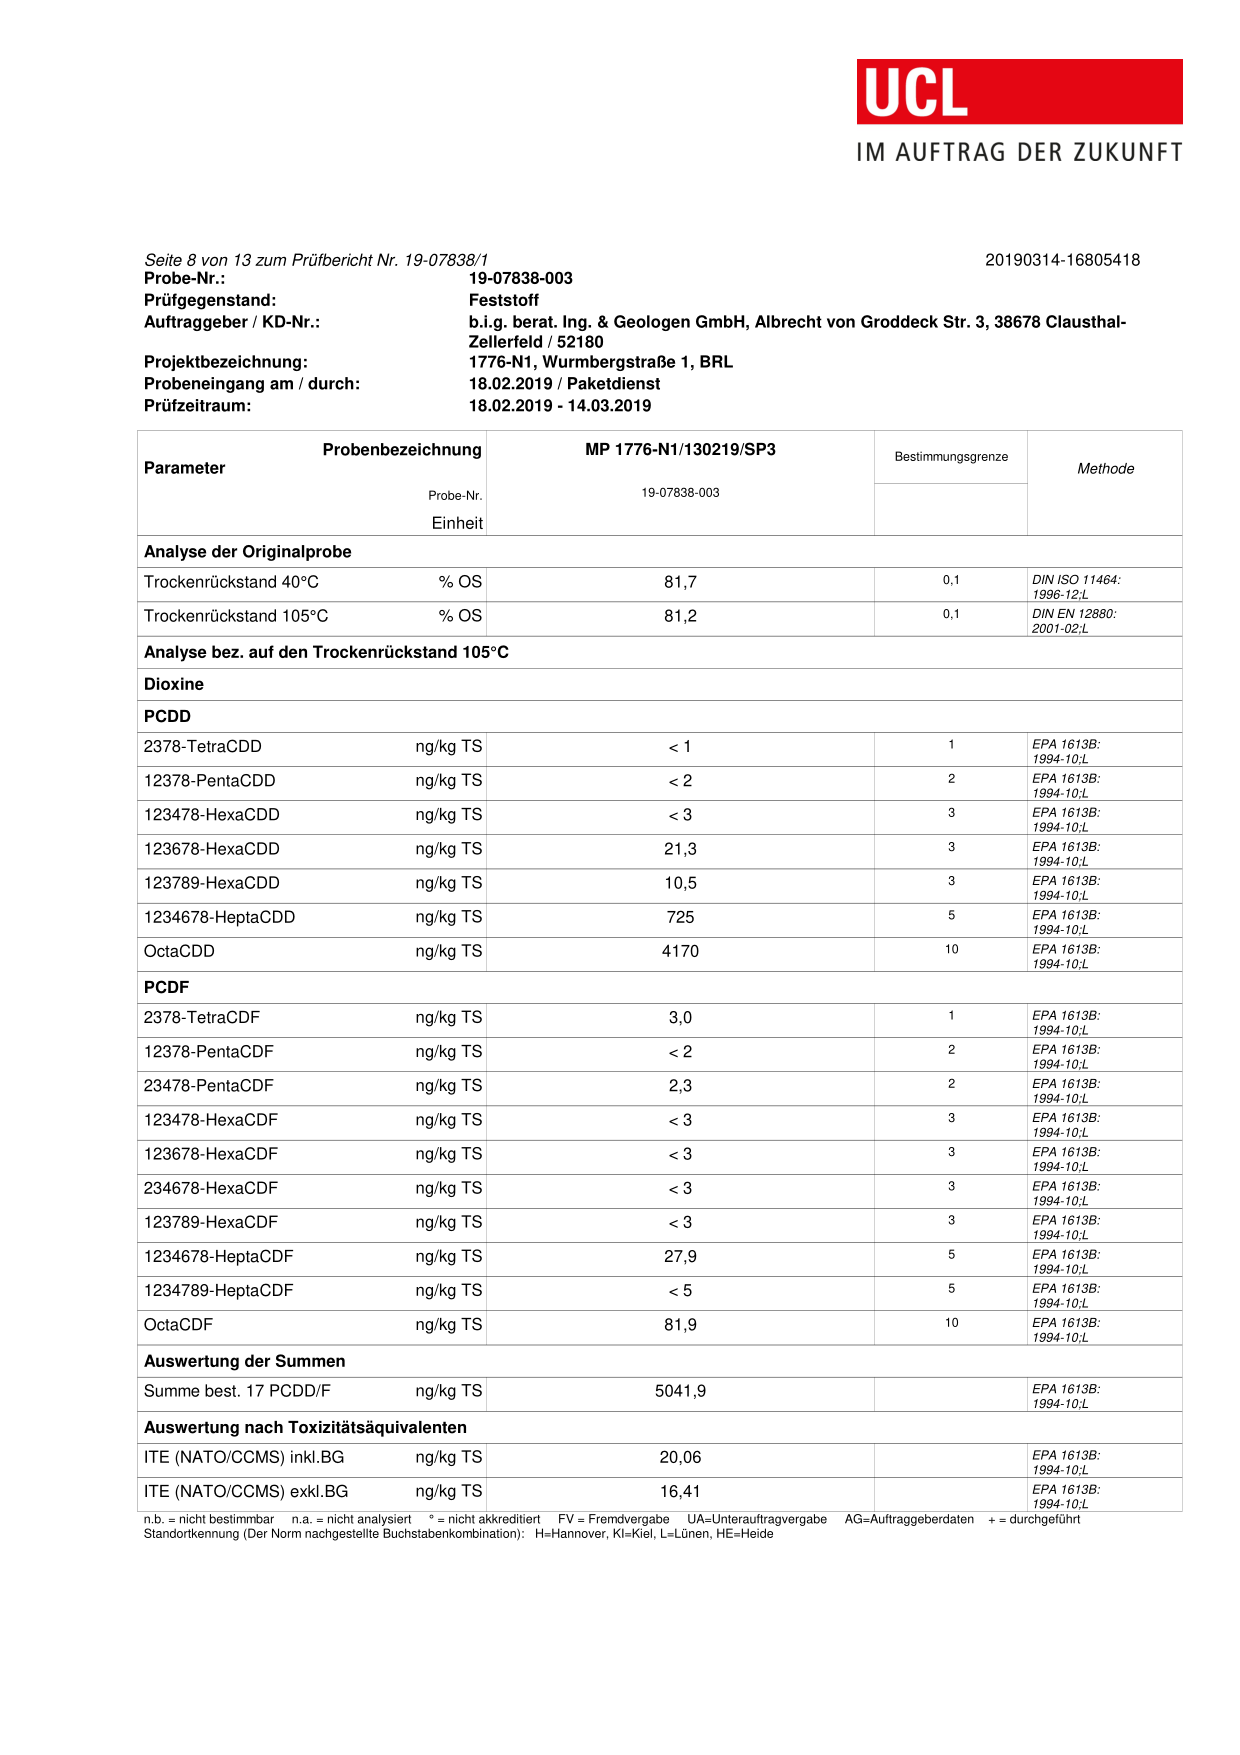table: (115, 1004, 1204, 1346), (123, 729, 1196, 967), (118, 539, 1192, 639), (125, 1437, 1180, 1518), (122, 1370, 1180, 1418)
